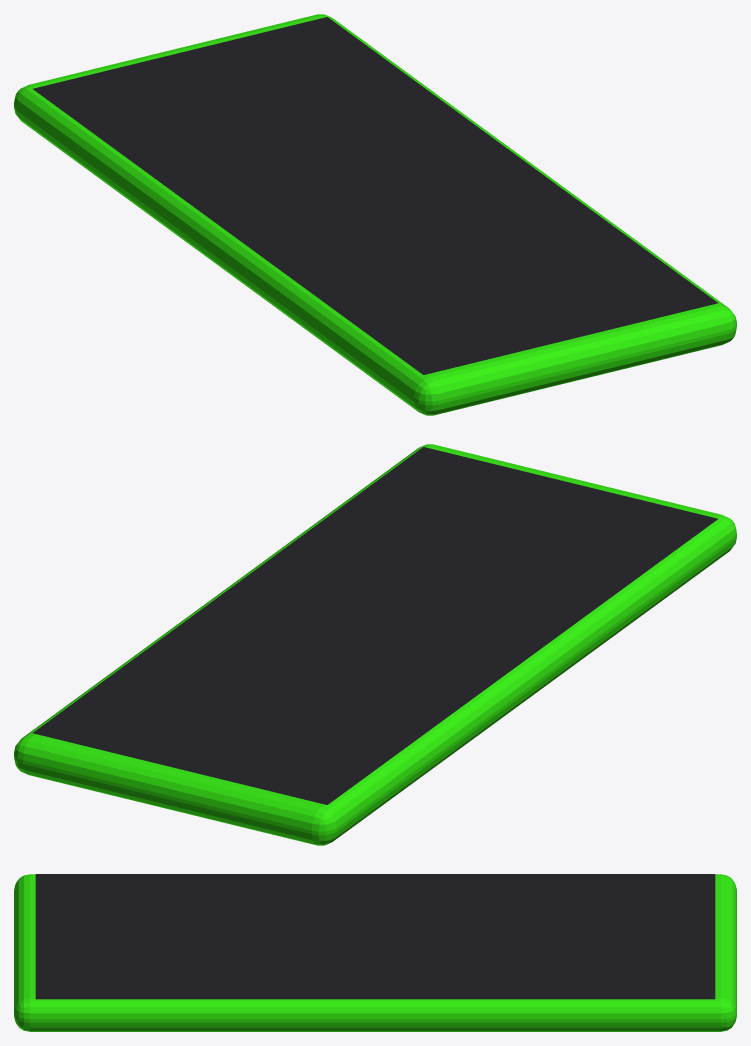
Rendered from xiaomi-model-93-flagship-2021.glb.
3 renders of one model, top to bottom at view 1: azimuth 30°, elevation 25°; view 2: azimuth 150°, elevation 25°; view 3: azimuth 270°, elevation 25°, orthographic. The views are drawn at different scales.
Visible parts, largest first — view 1: Phone_Screen, Phone_Body; view 2: Phone_Screen, Phone_Body; view 3: Phone_Screen, Phone_Body.
Boxes of the visible parts, x1,y1,x2,y2 form: Phone_Screen: [33, 17, 718, 374]; Phone_Body: [14, 14, 736, 415]; Phone_Screen: [32, 447, 717, 804]; Phone_Body: [14, 444, 736, 845]; Phone_Screen: [35, 874, 715, 999]; Phone_Body: [14, 874, 736, 1031].
Size of the model in its own units: 0.0752 by 0.0084 by 0.169.
